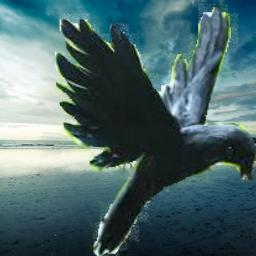Crow: (55, 0, 256, 256)
